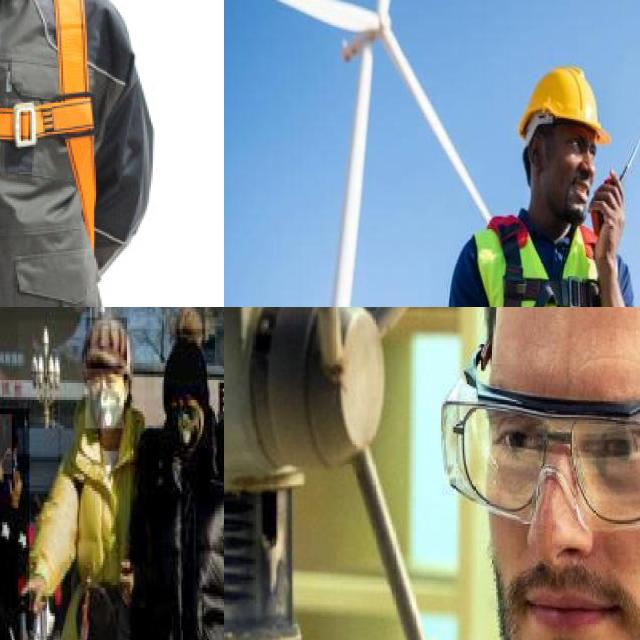Harness: (0, 0, 134, 307), (488, 216, 601, 307)
face_mask: (86, 369, 126, 431), (167, 386, 202, 451)
face_nomask: (479, 402, 640, 640)
glasses: (439, 358, 640, 535)
head_nohelmet: (154, 335, 206, 397), (85, 317, 128, 380), (0, 414, 13, 476)
person: (18, 320, 144, 640), (130, 328, 224, 640), (0, 408, 29, 640)
